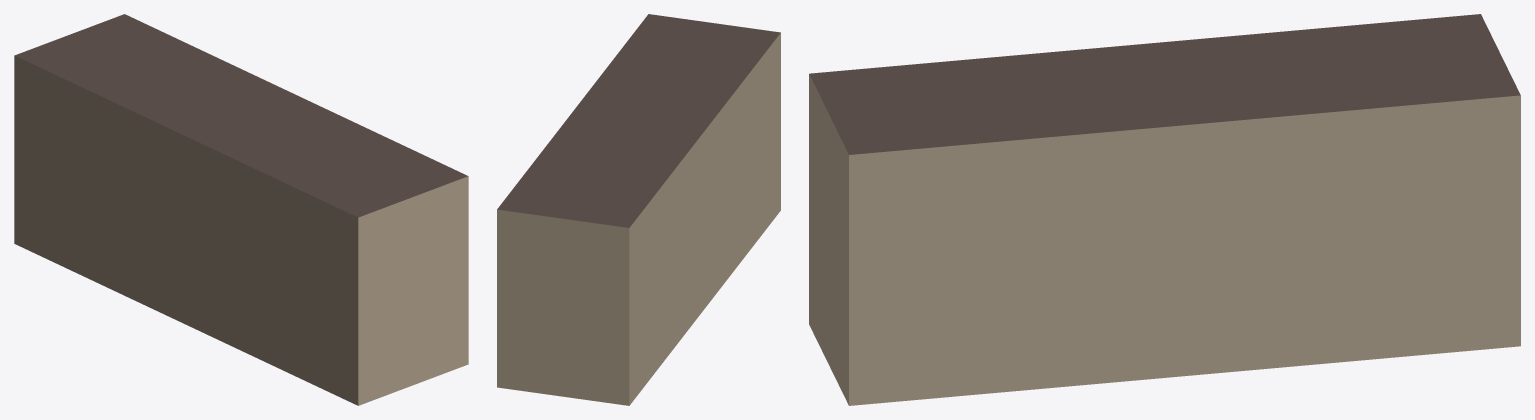
The picture shows the model from 3 angles, left to right: view 1: azimuth 30°, elevation 25°; view 2: azimuth 150°, elevation 25°; view 3: azimuth 270°, elevation 25°; orthographic projection. The views are drawn at different scales.
Visible parts, largest first — view 1: HP-w702173491; view 2: HP-w702173491; view 3: HP-w702173491.
Boxes of the visible parts, x1,y1,x2,y2 form: HP-w702173491: (14, 14, 468, 405); HP-w702173491: (497, 14, 780, 405); HP-w702173491: (809, 14, 1520, 405).
Bounding box in the file's own units: 7.23 × 6 × 15.42.
